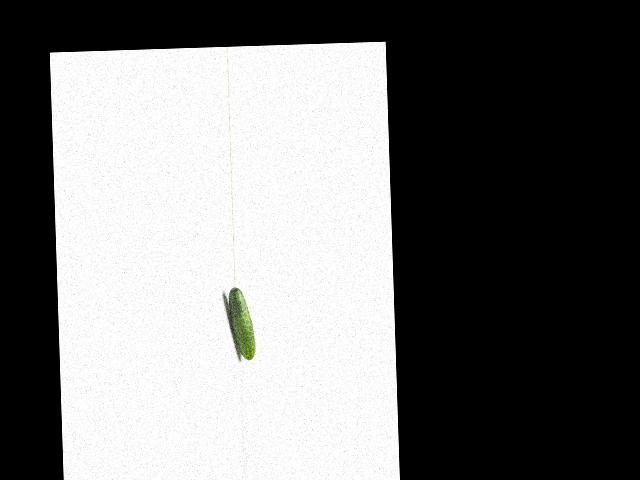cucumber: (227, 285, 255, 360)
